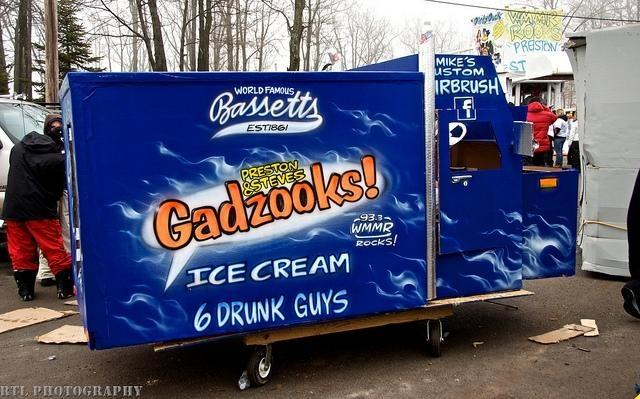car: (0, 100, 52, 205)
truck: (54, 56, 576, 386)
